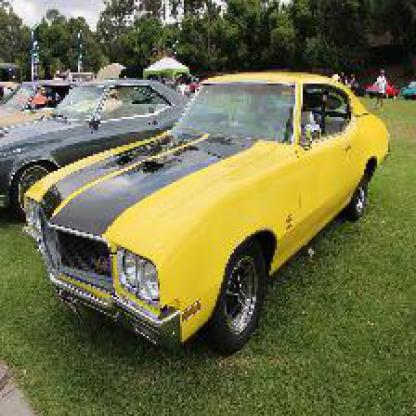not_emergency: (15, 65, 392, 375)
